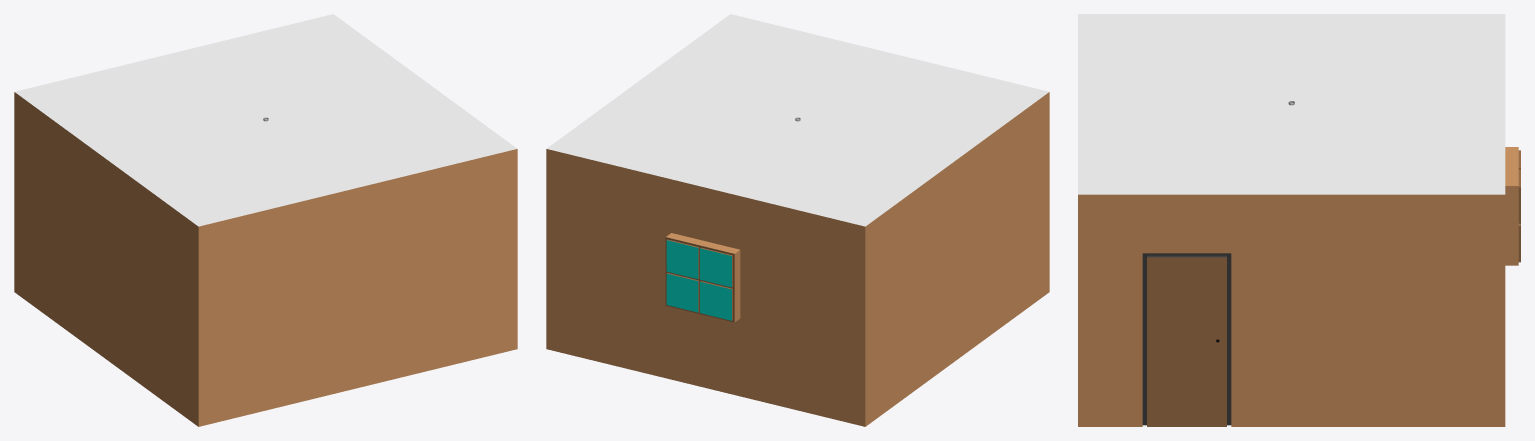
File: OfficeRoom.fbx
3 views of the same model, side by side, from view 1: azimuth 30°, elevation 25°; view 2: azimuth 150°, elevation 25°; view 3: azimuth 270°, elevation 25° (orthographic). The views are drawn at different scales.
Parts seen in each view (by area): view 1: Cube; view 2: Cube; view 3: Cube.
Boxes of the visible parts, bbox=[...] form: Cube: bbox=[14, 14, 517, 426]; Cube: bbox=[546, 14, 1049, 426]; Cube: bbox=[1078, 14, 1520, 426].
Bounding box in the file's own units: 5 × 3.03 × 5.18.
